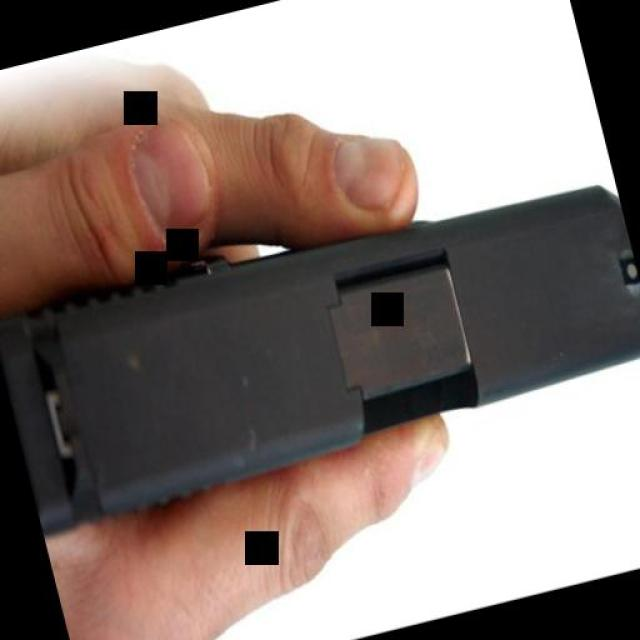gun: (0, 159, 640, 525)
